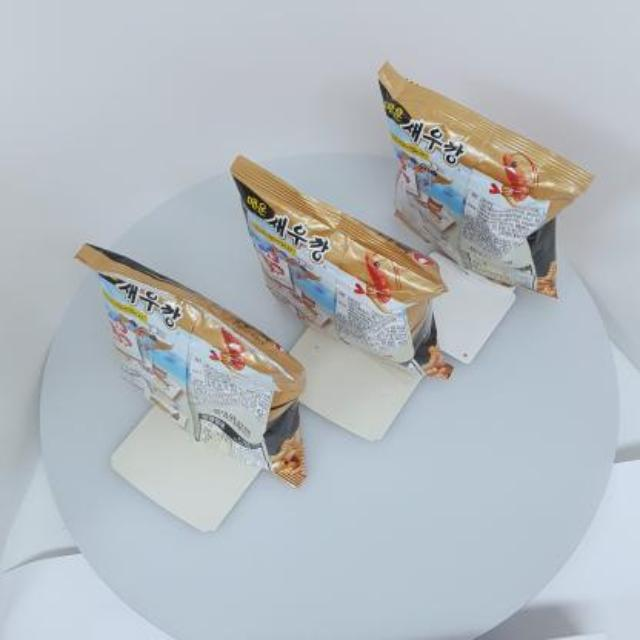snack_bag: (62, 52, 598, 494)
